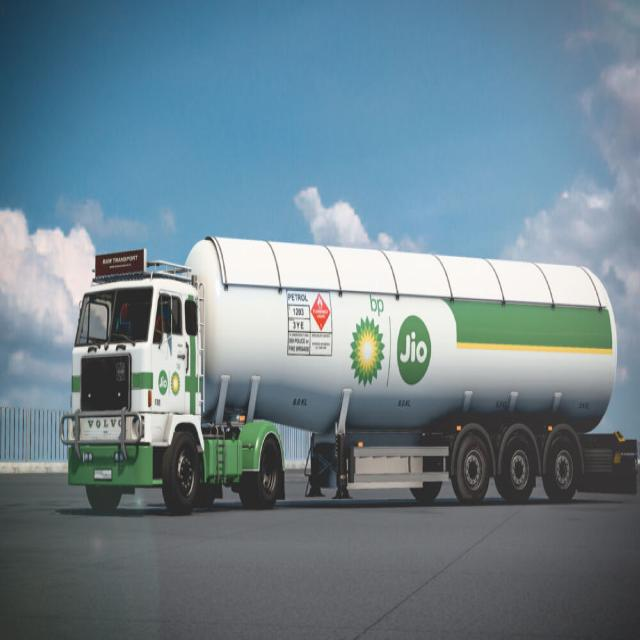truck: (61, 238, 638, 513)
